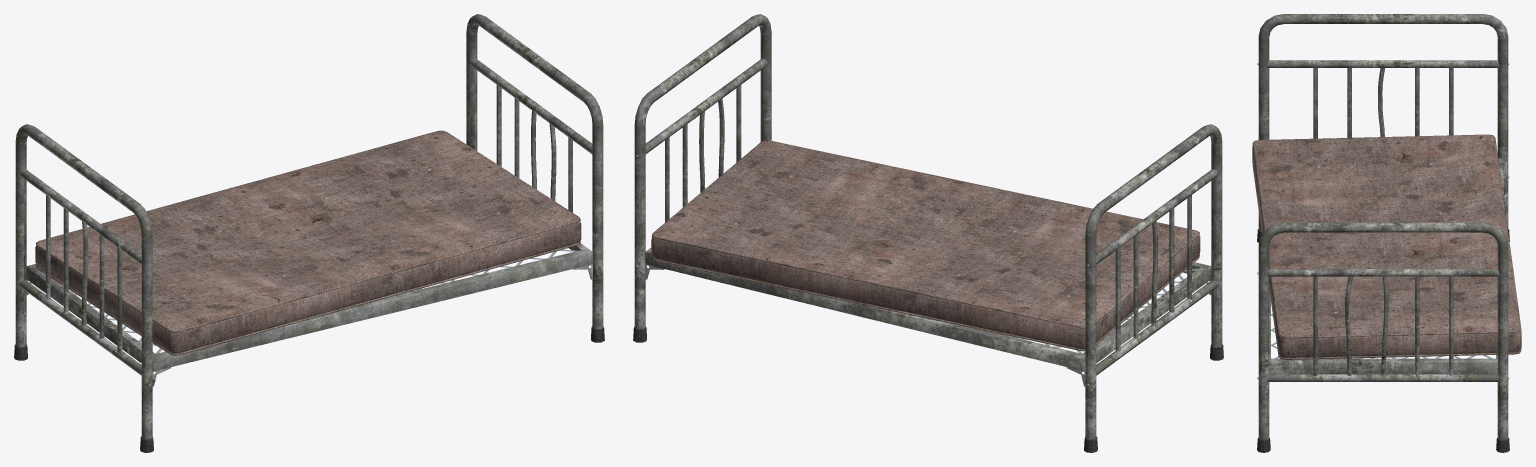
3 views of the same model, side by side, from view 1: azimuth 30°, elevation 25°; view 2: azimuth 150°, elevation 25°; view 3: azimuth 270°, elevation 25° (orthographic). The views are drawn at different scales.
Parts seen in each view (by area): view 1: matras, group_0 (×8), SketchUp; view 2: matras, group_0 (×8), SketchUp; view 3: matras, group_0 (×15), SketchUp.
Part boxes in pixels (x1,y1,x2,y2): matras: (35,130,581,355); group_0 (×8): (19,14,603,375); SketchUp: (15,124,152,439); matras: (651,140,1200,351); group_0 (×8): (634,14,1218,375); SketchUp: (1085,124,1222,439); matras: (1252,134,1521,359); group_0 (×15): (1258,60,1508,439); SketchUp: (1258,14,1508,230).
Size of the model in its own units: 88.54 by 46.98 by 43.73.
Materials: 6 (4 with a texture image).
